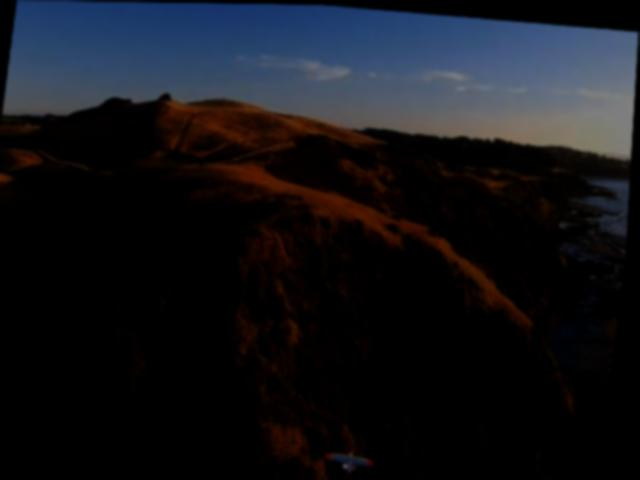uav: (327, 444, 383, 477)
